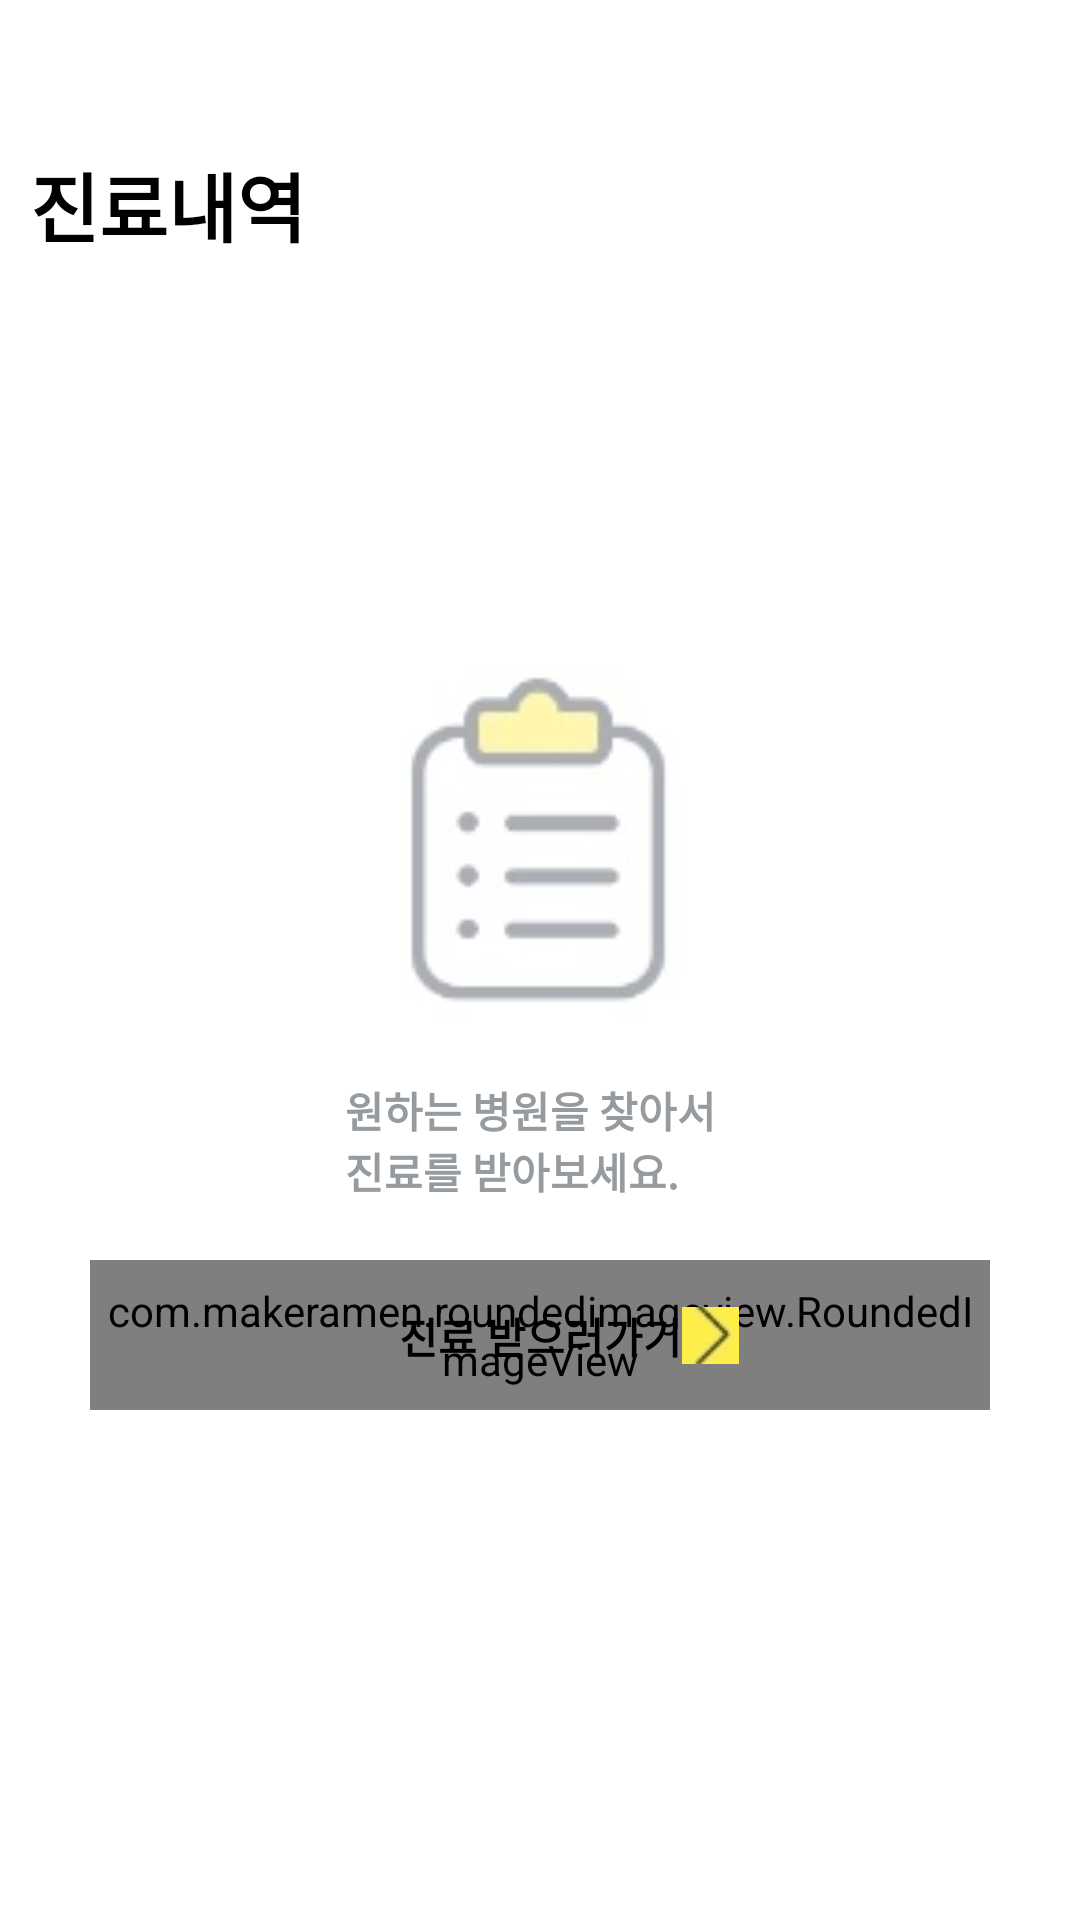

Point at icon controls on the screen. Image size 1080x1920, points as [x,y].
history paper: [538,839]
history right arrow: [710,1335]
